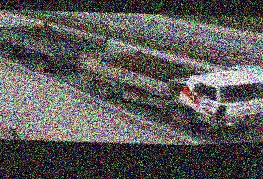truck: (0, 8, 263, 146)
